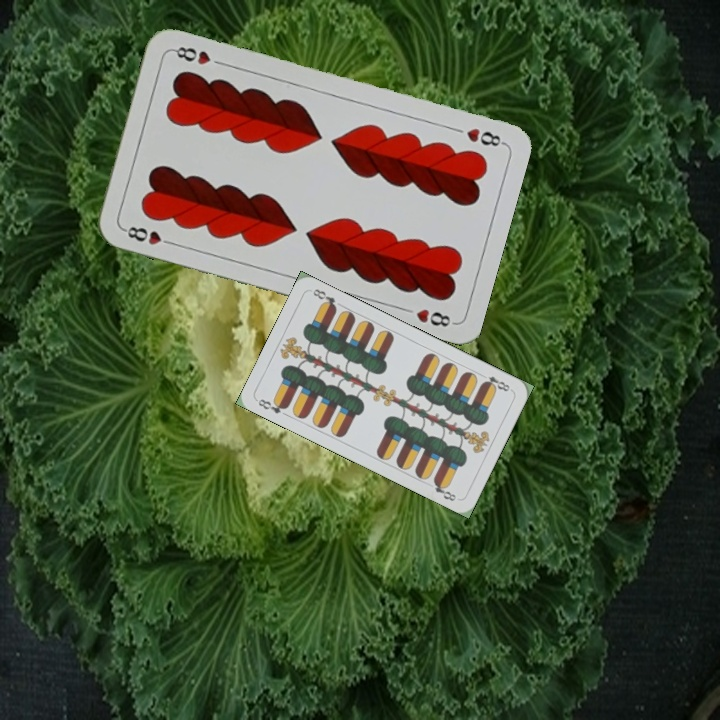E8: (478, 372, 514, 394), (254, 395, 291, 416)
H8: (119, 222, 177, 248), (462, 124, 507, 149)
